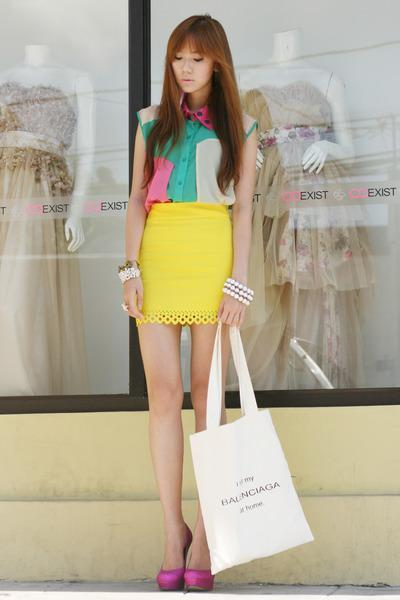bag: (190, 327, 312, 574)
shirt: (129, 93, 227, 227)
shoe: (156, 557, 214, 593)
skirt: (136, 201, 251, 323)
